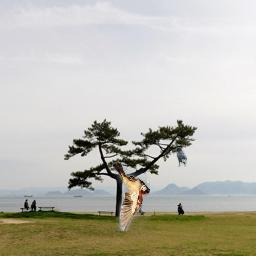Crow: (173, 147, 187, 167)
Sparrow: (112, 163, 150, 232)
